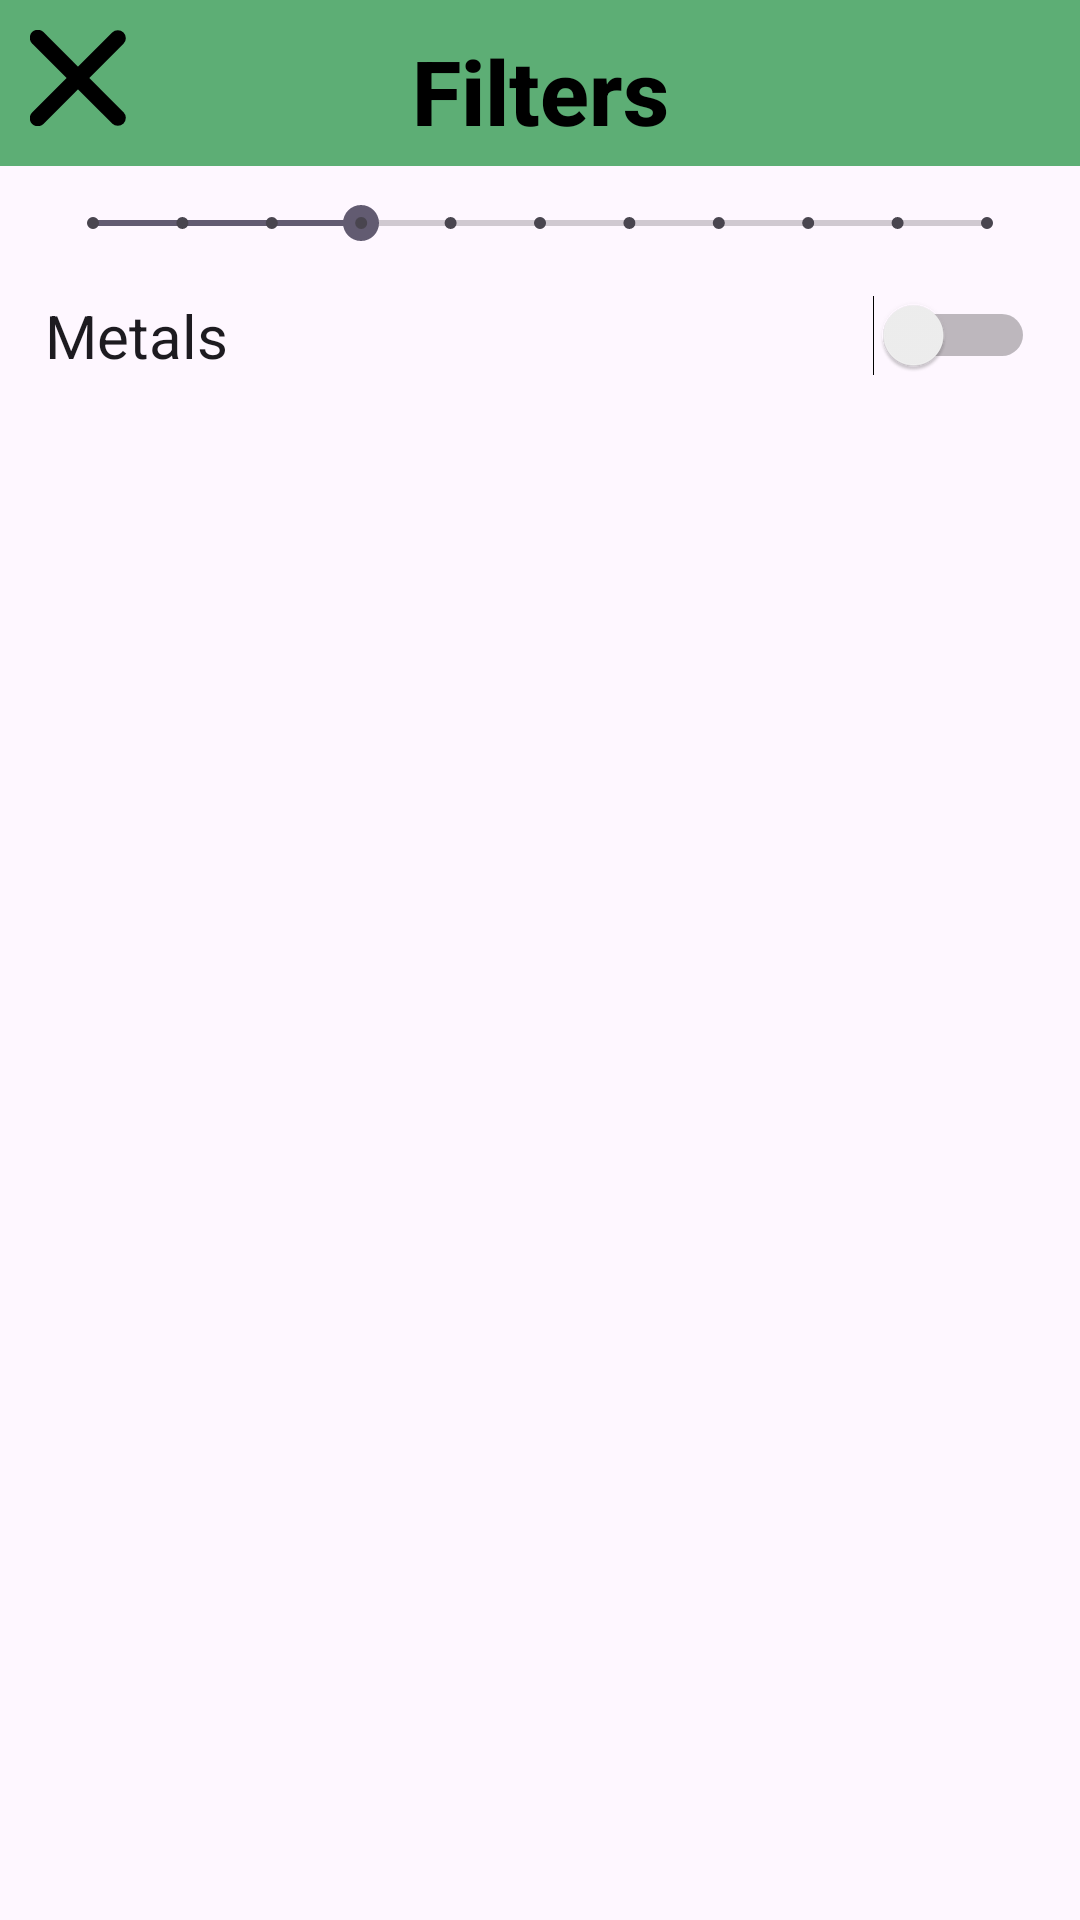

Icons on this 1080×1920 Android screen, each with the point to tap as (x=x, y=y):
close: (x=78, y=78)
